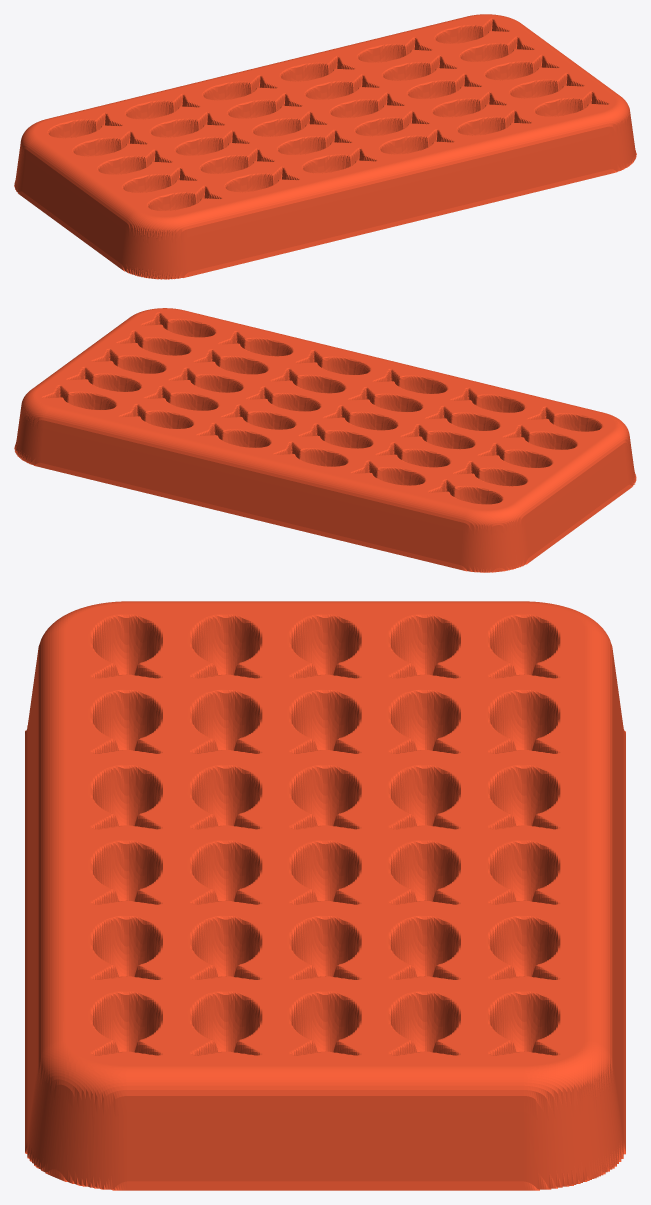
Rendered from mold.glb.
The picture shows the model from 3 angles, top to bottom: view 1: azimuth 30°, elevation 25°; view 2: azimuth 150°, elevation 25°; view 3: azimuth 270°, elevation 25°; orthographic projection. The views are drawn at different scales.
Parts seen in each view (by area): view 1: geometry_0; view 2: geometry_0; view 3: geometry_0.
Part boxes in pixels (x1,y1,x2,y2): geometry_0: (14, 14, 636, 279); geometry_0: (14, 308, 636, 572); geometry_0: (25, 601, 625, 1190).
Bounding box in the file's own units: 0.104 × 0.0105 × 0.0532.
